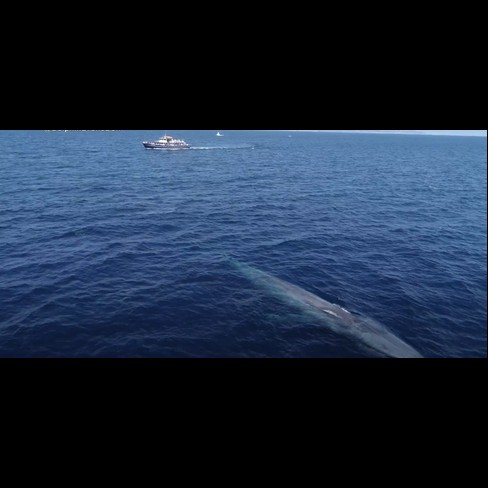bluewhale: (201, 239, 427, 359)
boat: (141, 132, 190, 152)
